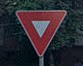cedeaza: (14, 8, 68, 58)
